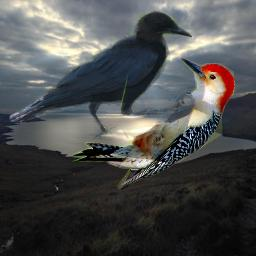Crow: (9, 10, 192, 140)
Woodpecker: (70, 58, 235, 191)
